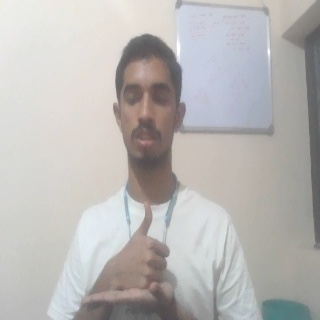Face: (110, 32, 188, 169)
Help: (82, 199, 177, 310)
